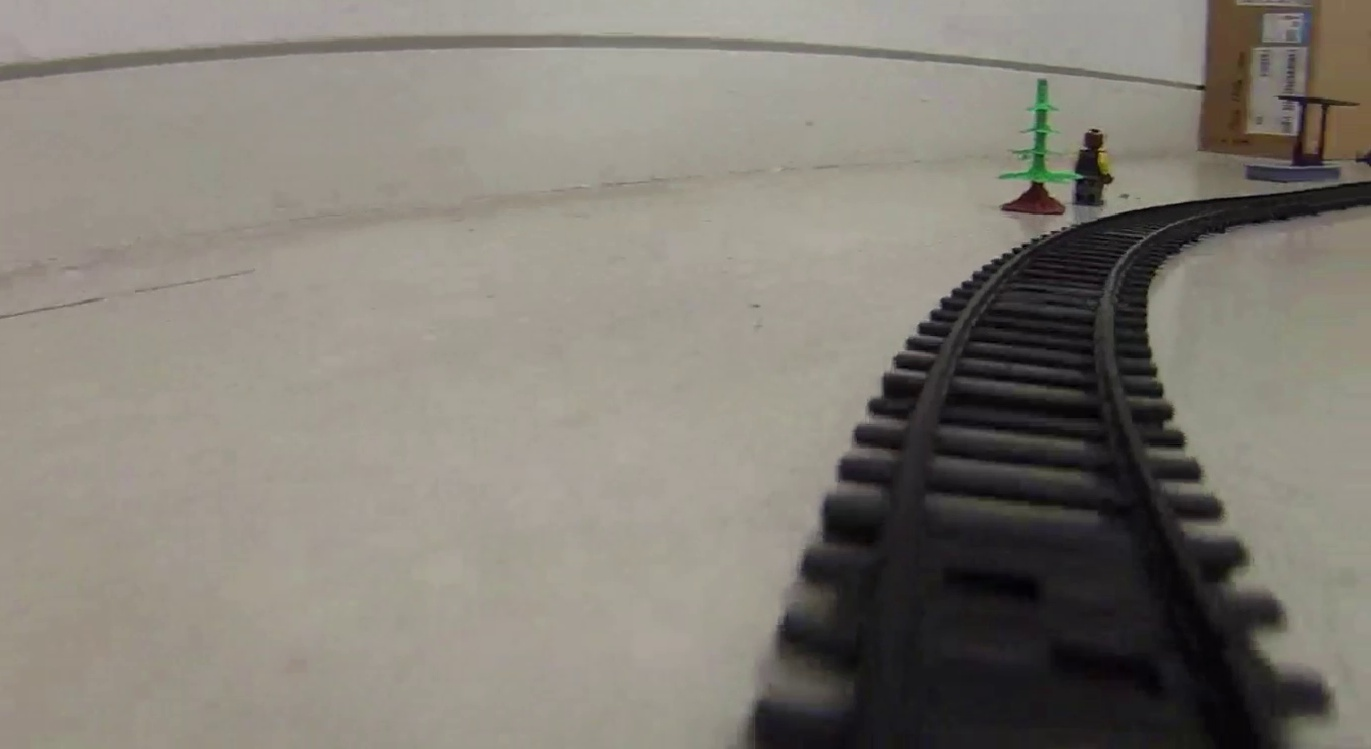people: (1075, 128, 1112, 205)
tree: (997, 78, 1076, 217)
